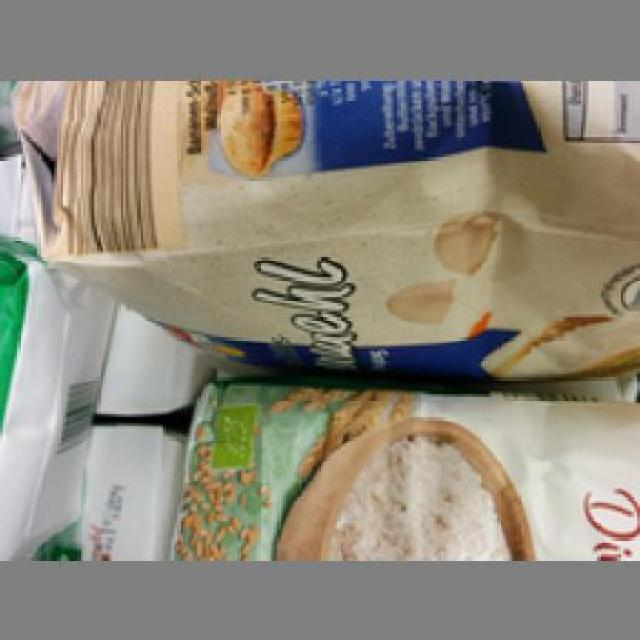Flour: (15, 77, 634, 386), (157, 374, 637, 560)
